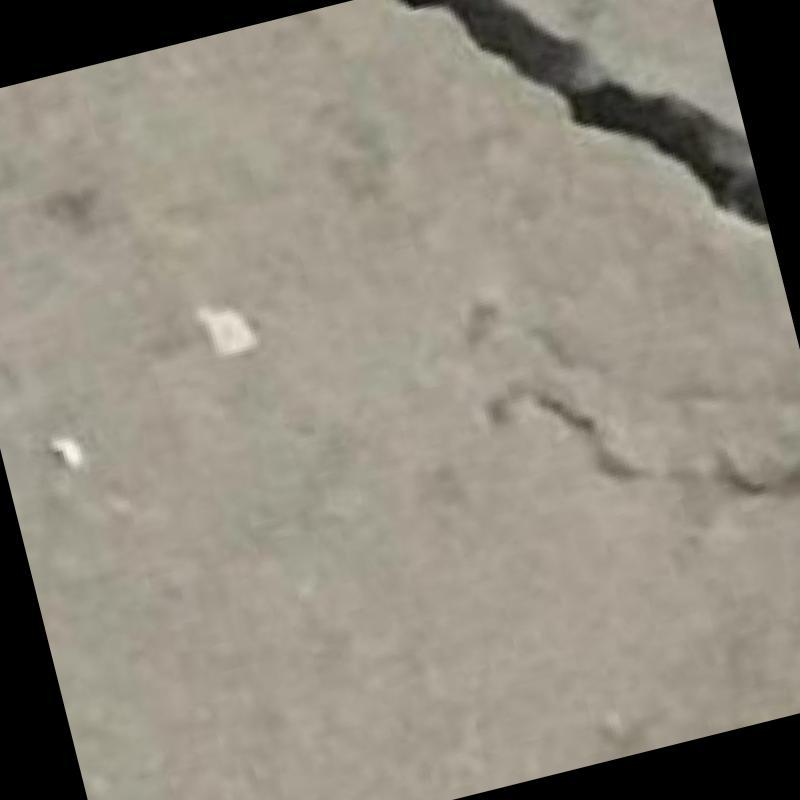pothole: (402, 0, 767, 223)
